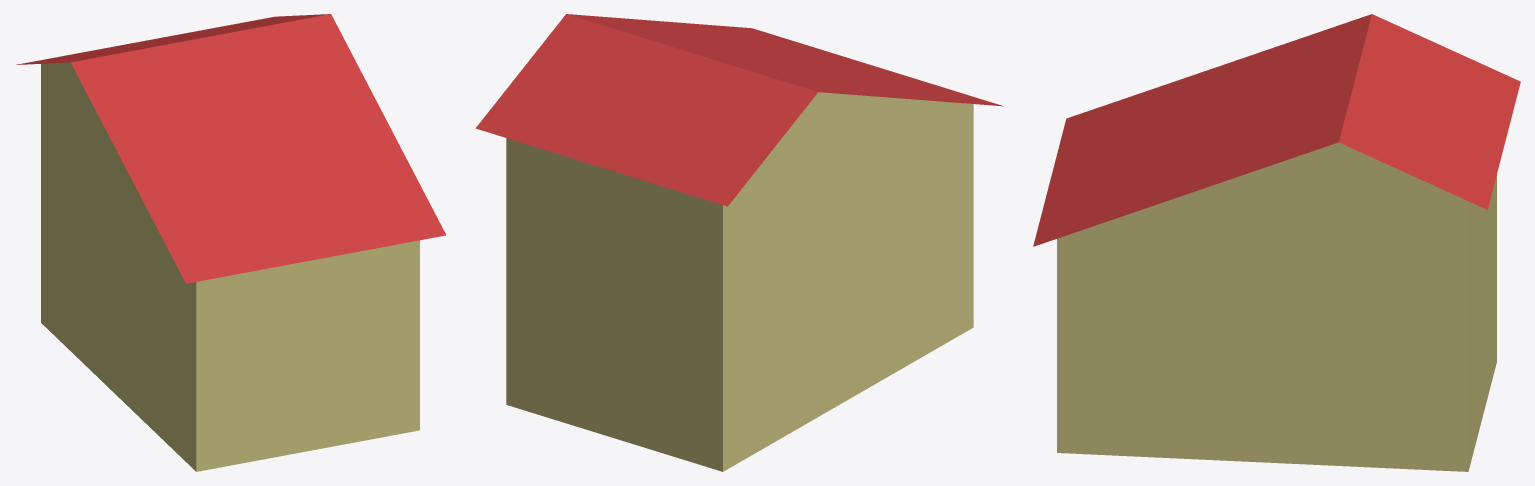
3 views of the same model, side by side, from view 1: azimuth 30°, elevation 25°; view 2: azimuth 150°, elevation 25°; view 3: azimuth 270°, elevation 25° (orthographic). The views are drawn at different scales.
Size of the model in its own units: 12.24 by 16.89 by 12.71.
